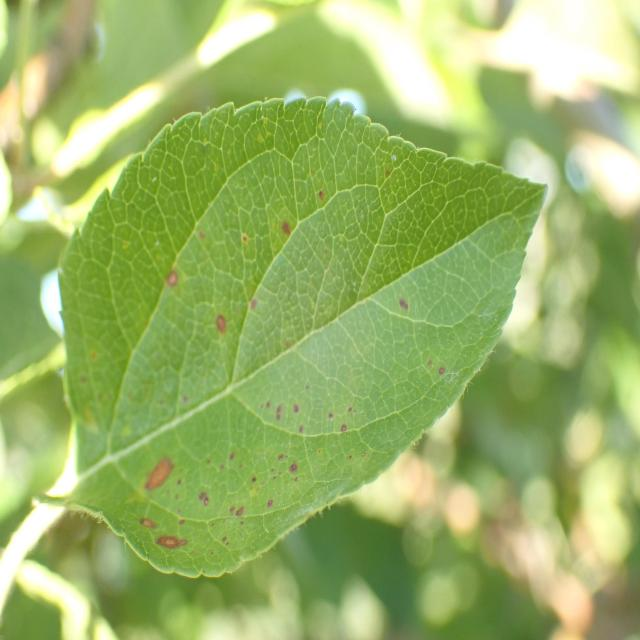Black Rot: (124, 500, 206, 578), (204, 276, 248, 354), (136, 440, 180, 504), (163, 258, 187, 313), (275, 202, 300, 248)
